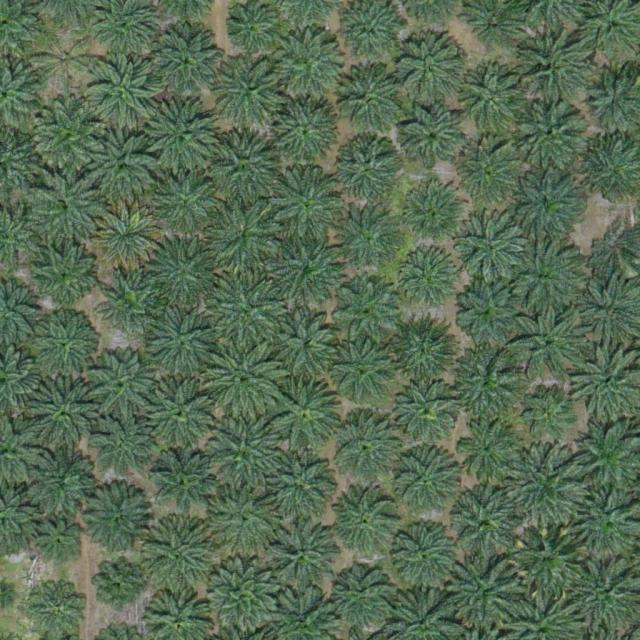Healthy: (508, 517, 586, 596), (508, 446, 586, 525), (447, 492, 525, 571), (504, 240, 582, 319), (510, 300, 588, 379), (205, 199, 283, 278), (209, 274, 287, 353), (510, 28, 588, 106), (205, 338, 283, 416), (329, 412, 400, 483), (272, 381, 343, 452), (264, 520, 335, 591), (29, 379, 100, 450), (20, 442, 91, 513), (274, 98, 345, 169), (215, 56, 286, 127), (326, 335, 397, 406), (269, 170, 340, 241), (152, 27, 223, 98), (30, 174, 101, 245), (451, 557, 521, 628), (393, 514, 463, 585), (266, 447, 337, 517), (207, 557, 277, 628), (80, 487, 151, 557), (518, 100, 588, 171), (394, 38, 465, 108), (334, 67, 404, 138), (273, 29, 343, 100), (512, 165, 582, 236), (448, 345, 518, 416), (389, 314, 459, 385), (330, 274, 400, 345), (272, 310, 343, 380), (274, 235, 344, 306), (207, 134, 277, 205), (146, 306, 216, 377), (146, 376, 216, 447), (33, 100, 103, 171), (87, 131, 157, 202), (90, 349, 160, 420), (391, 444, 461, 514), (209, 415, 279, 485), (208, 483, 278, 553), (143, 518, 213, 588), (458, 69, 528, 139), (455, 213, 525, 283), (145, 100, 215, 170), (152, 169, 222, 239), (146, 237, 216, 307), (88, 55, 158, 125), (28, 240, 98, 310), (337, 487, 400, 550), (400, 104, 463, 167), (34, 315, 97, 378), (457, 417, 519, 480), (396, 380, 458, 443), (332, 564, 394, 627), (152, 454, 214, 517), (458, 142, 520, 205), (460, 280, 522, 343), (400, 183, 463, 245), (339, 207, 401, 270), (335, 138, 397, 200), (398, 250, 460, 312), (29, 581, 84, 636), (103, 275, 157, 331), (95, 421, 149, 476), (524, 386, 571, 434), (227, 5, 274, 53), (33, 520, 80, 567), (593, 224, 640, 271)
Small: (97, 562, 144, 609)
Yellow: (92, 204, 162, 274), (35, 30, 97, 93)
